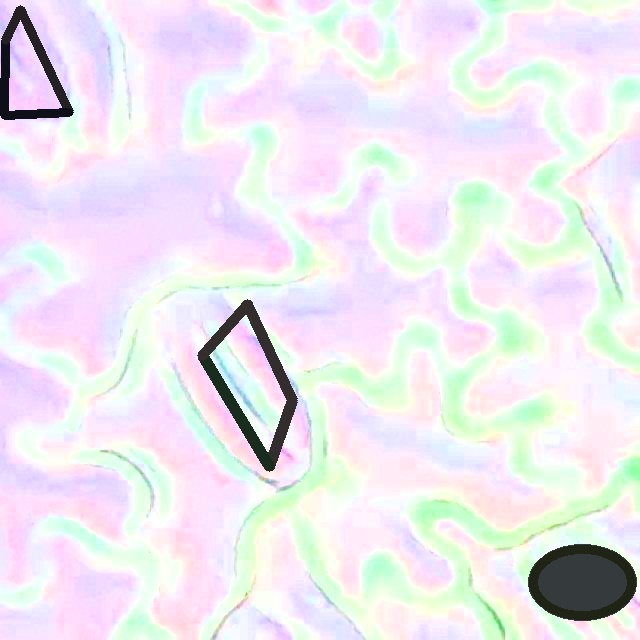close: (528, 545, 635, 620)
open: (198, 299, 296, 471), (1, 5, 73, 119)
